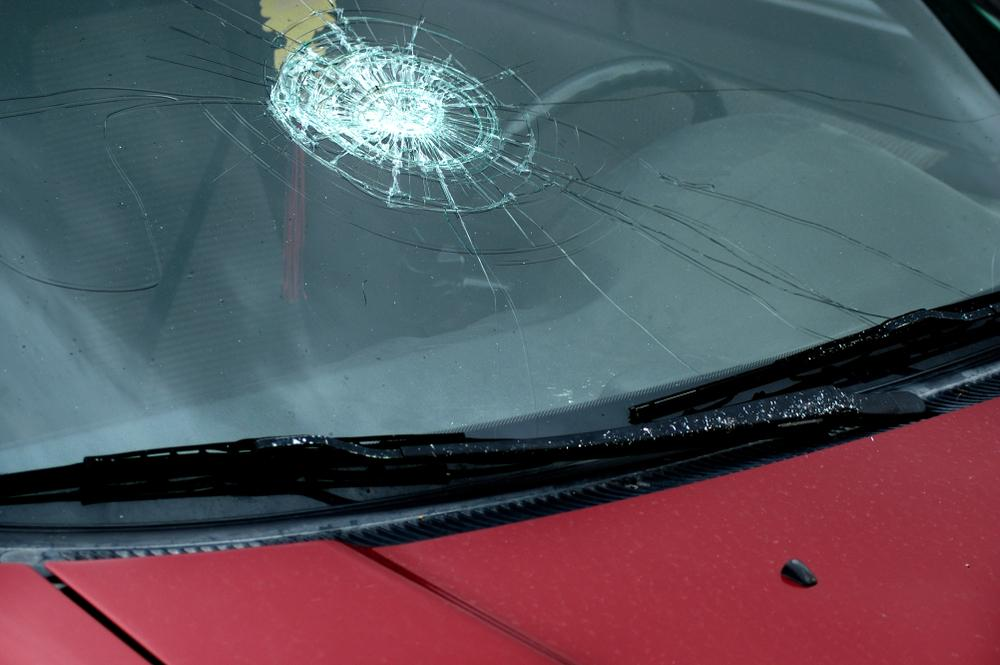glass shatter: (0, 0, 1000, 474)
